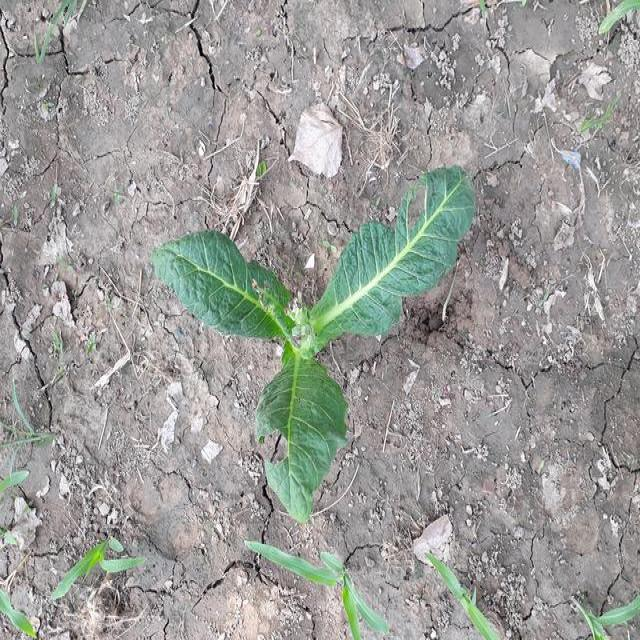crop: (142, 171, 500, 525)
